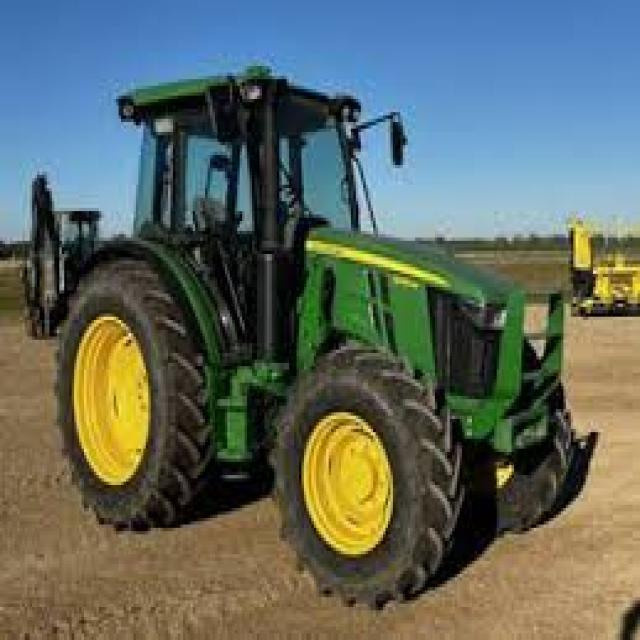Tratores - v5 YOLO V8L 2024-11-13: (48, 50, 604, 620)
